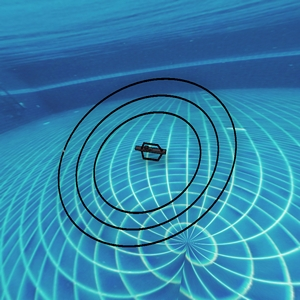circle: (57, 75, 239, 261)
submarine: (139, 143, 165, 160)
